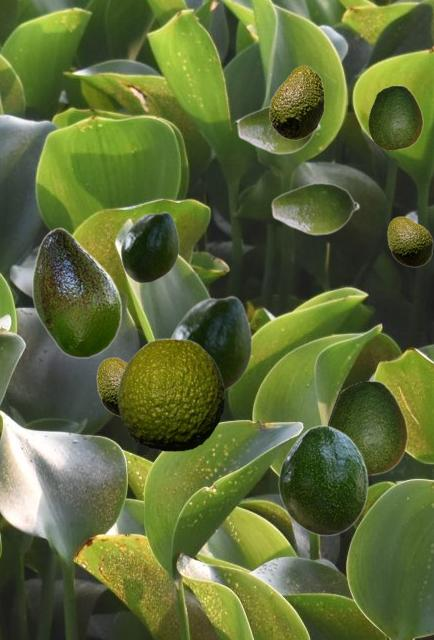avocado: (117, 338, 223, 450), (32, 227, 121, 357), (278, 425, 367, 535), (170, 295, 251, 393), (327, 380, 407, 475), (270, 181, 359, 235), (236, 104, 320, 154), (120, 211, 178, 282), (269, 65, 323, 139), (368, 85, 422, 149), (387, 216, 432, 266), (96, 357, 127, 417)
